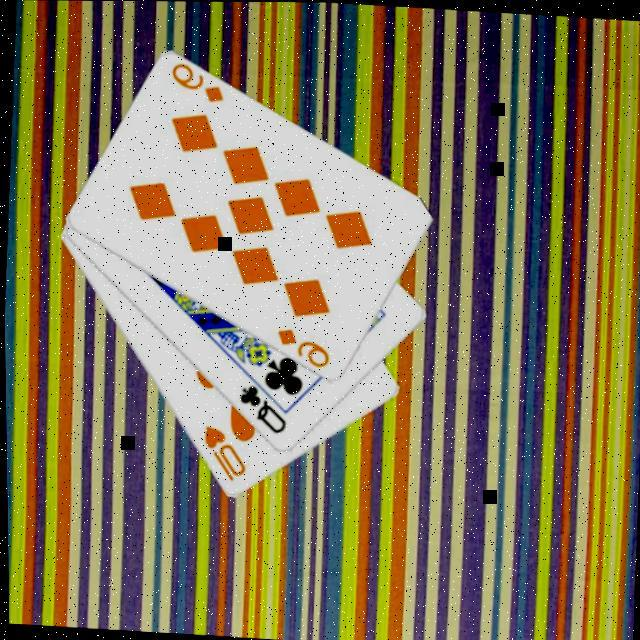10H: (196, 424, 250, 487)
9D: (270, 326, 332, 373), (165, 62, 227, 108)
QC: (232, 382, 290, 440)
